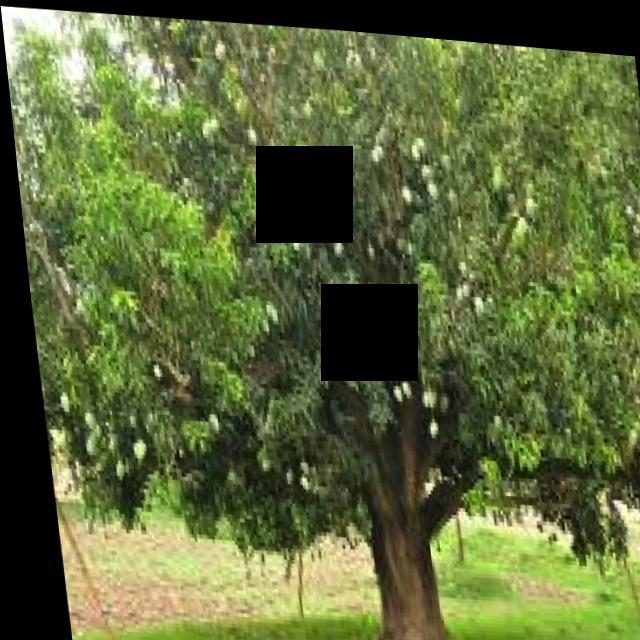Tree: (15, 2, 640, 640)
